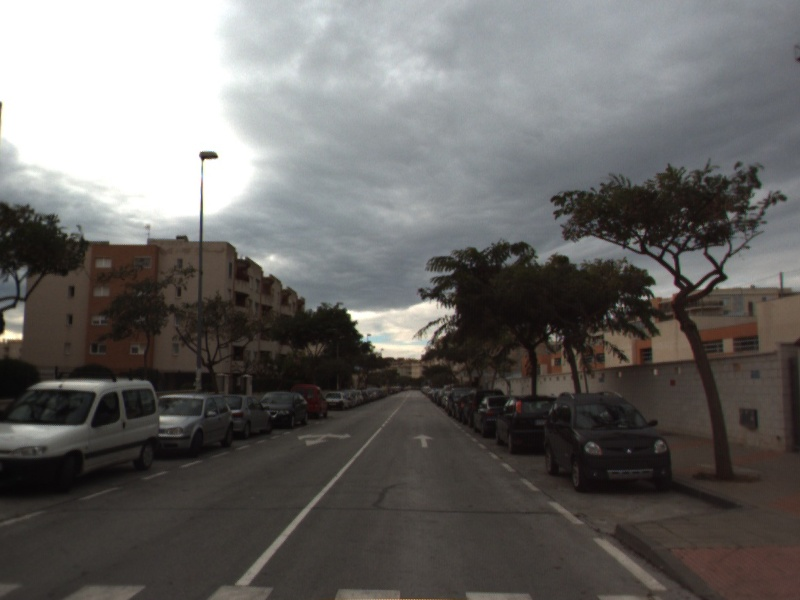STRAIGHT: (411, 432, 436, 449)
